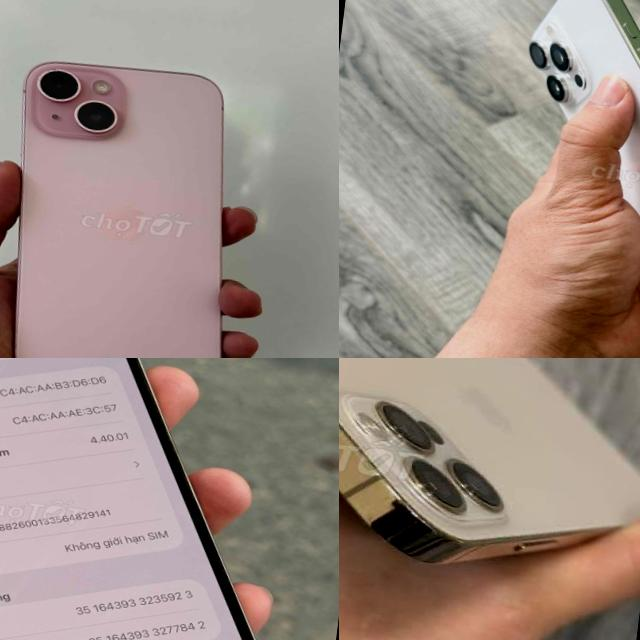gen_12_13: (339, 358, 640, 562)
gen_14: (0, 358, 339, 640)
gen_15: (0, 34, 306, 358)
gen_16: (529, 0, 640, 217)
